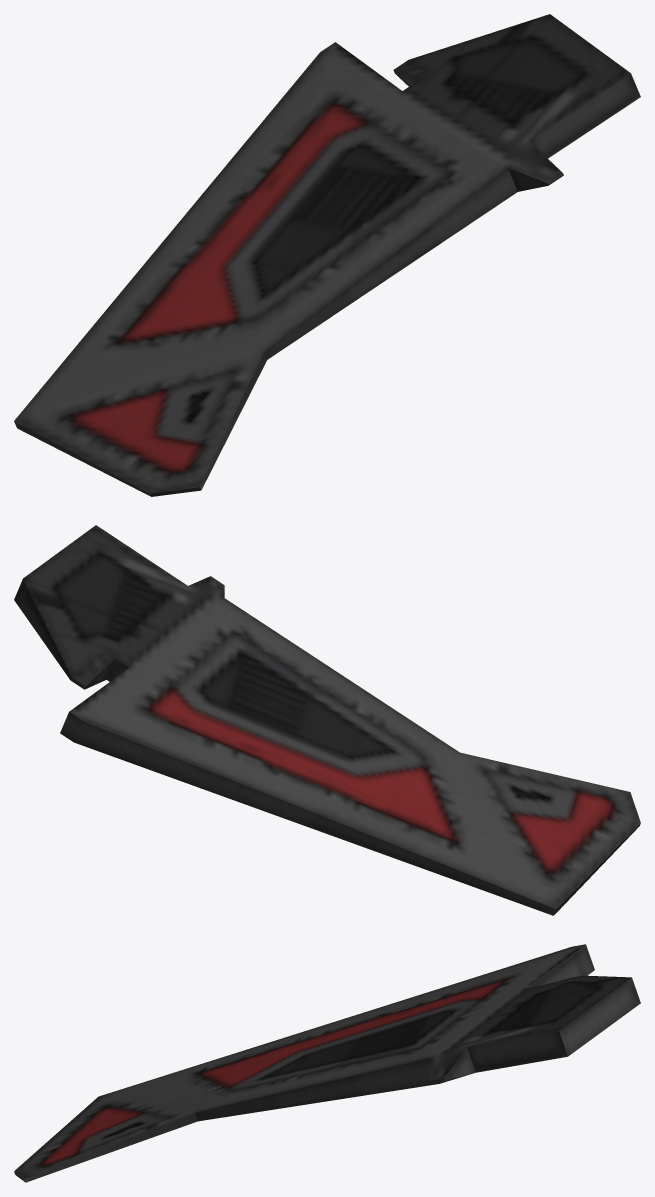
Rendered from BFP_FrontGuideWing_Right.FBX.
3 views of the same model, one above another, from view 1: azimuth 30°, elevation 25°; view 2: azimuth 150°, elevation 25°; view 3: azimuth 330°, elevation 25° (orthographic). The views are drawn at different scales.
Visible parts, largest first — view 1: BFP_FrontGuideWing_Right; view 2: BFP_FrontGuideWing_Right; view 3: BFP_FrontGuideWing_Right.
Part boxes in pixels (x1,y1,x2,y2): BFP_FrontGuideWing_Right: (14,14,640,496); BFP_FrontGuideWing_Right: (14,525,640,915); BFP_FrontGuideWing_Right: (14,944,640,1182).
Bounding box in the file's own units: 164 × 70.23 × 120.
1 material, 1 textured.
